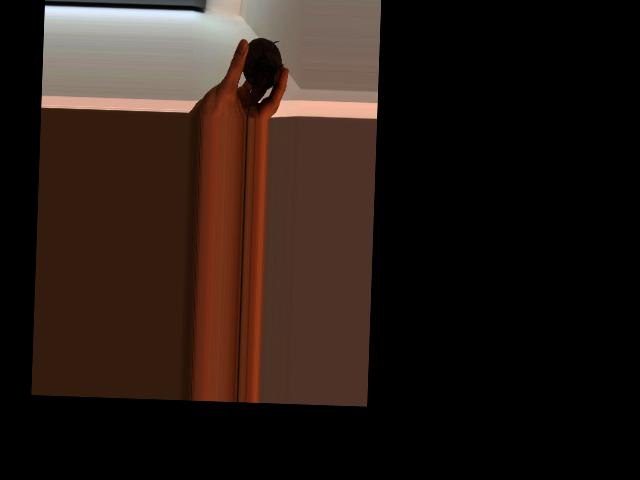beet: (240, 36, 284, 119)
